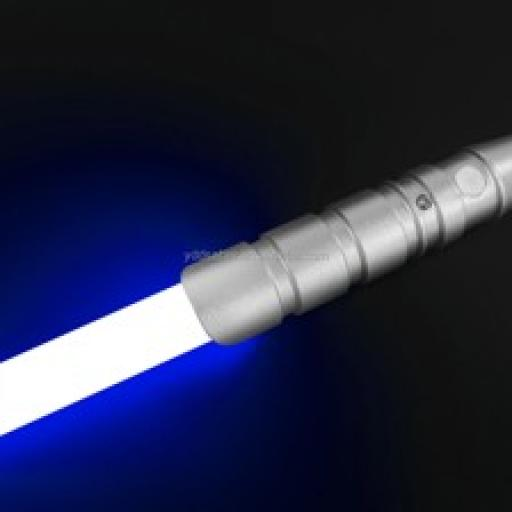lightsaber: (0, 134, 512, 437)
